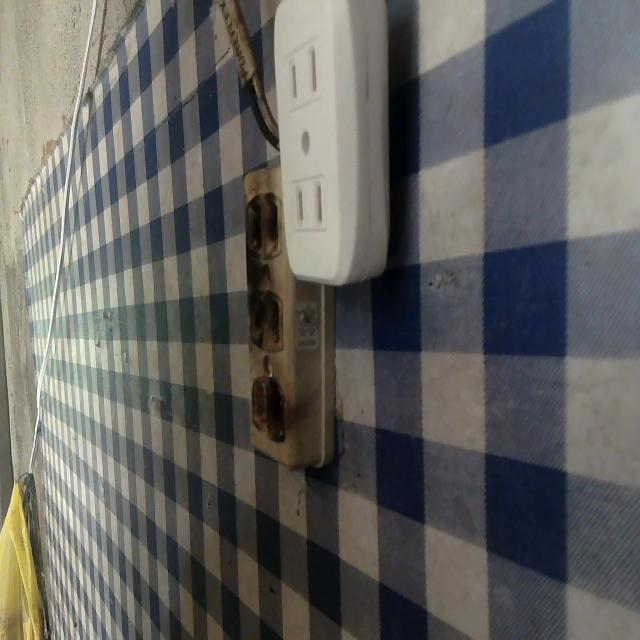-: (243, 284, 299, 360), (247, 368, 295, 447), (244, 182, 285, 258)
